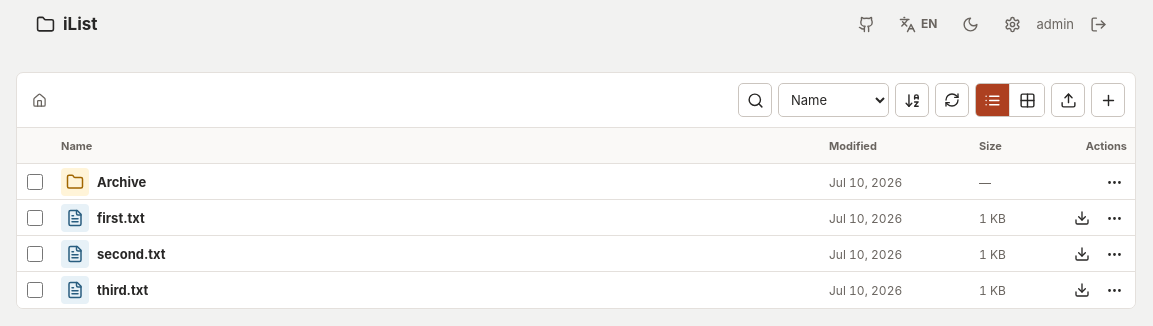
Scenario: explorer collection interactions › selects mutable entries intersecting a desktop marquee
Press the mouse on the list named "Files and folders" at (576, 236), box [17, 164, 1135, 308]
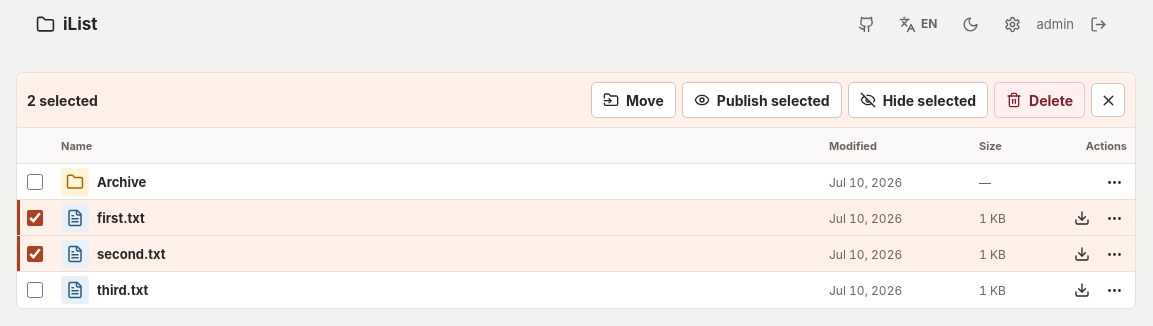
Check: the text "2 selected" is shown, box [27, 92, 98, 108]
